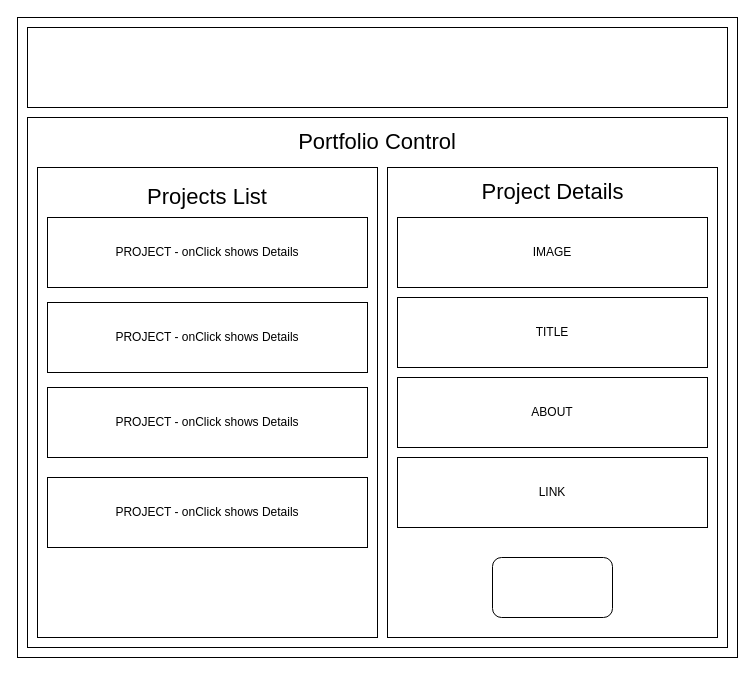
Image size: 755x675. Some labels were removed from this diagram. The centre of each missing label's shape, as x and y in pixels:
"Back - onClick shows Projects List" belongs at point 552,587.
"HEADER" belongs at point 377,67.
